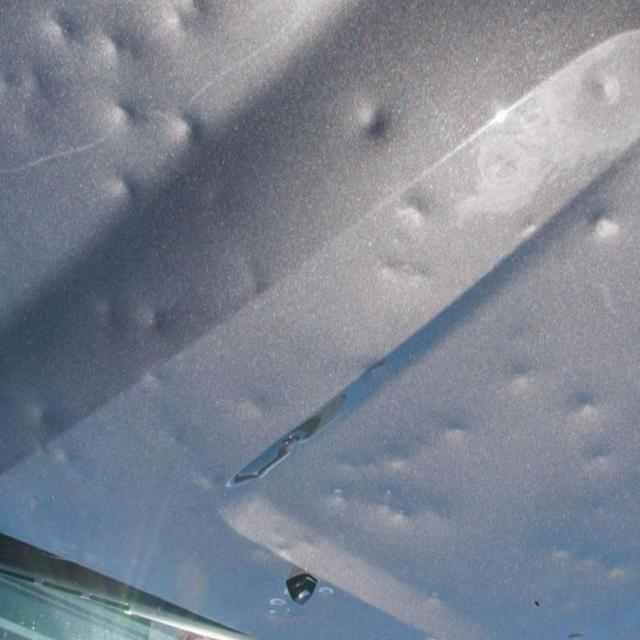dent: (0, 0, 246, 203), (346, 78, 406, 175)
